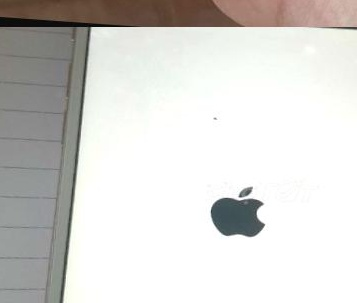screen_defect: (206, 111, 224, 127)
